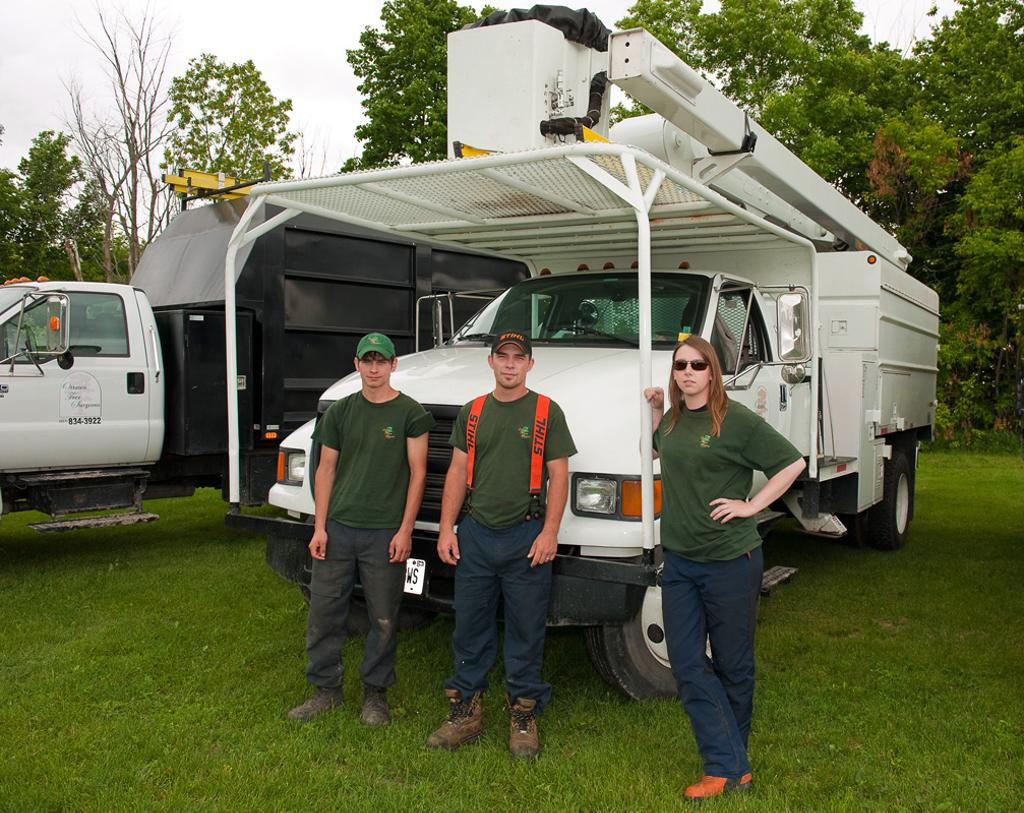face: (673, 346, 709, 394), (492, 341, 527, 387), (358, 345, 391, 386)
